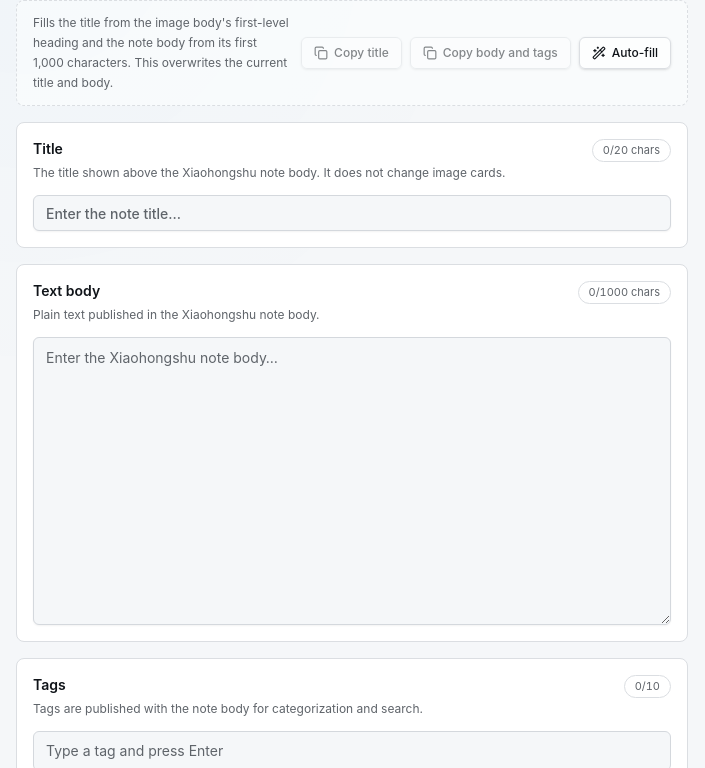
Test: 小红书内容编辑器 › 点击自动填充后取一级标题作为标题、正文纯文本作为内容
Click the button "Auto-fill" at (625, 53), box [579,37,671,69]
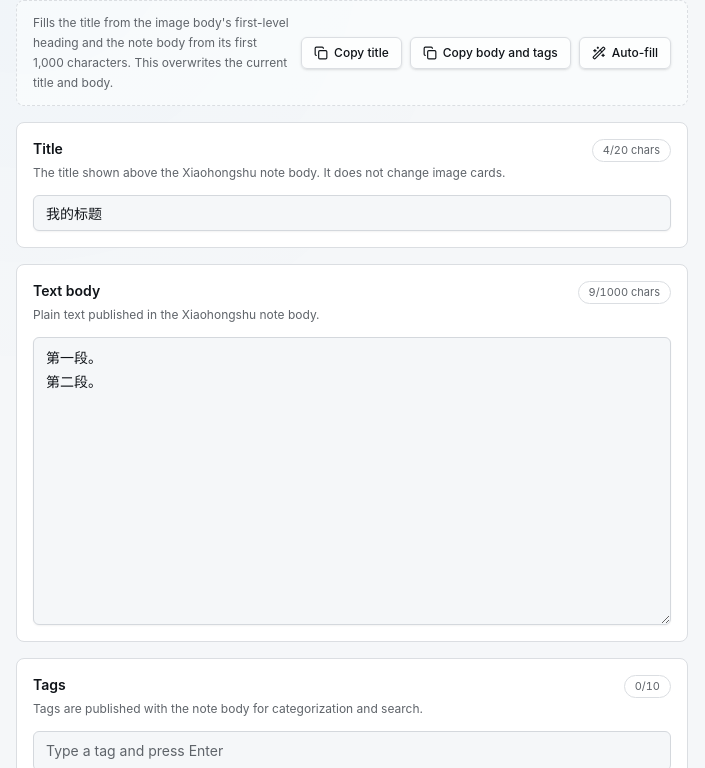
Check: the field named "title" holds "我的标题", box [33,195,671,231]
